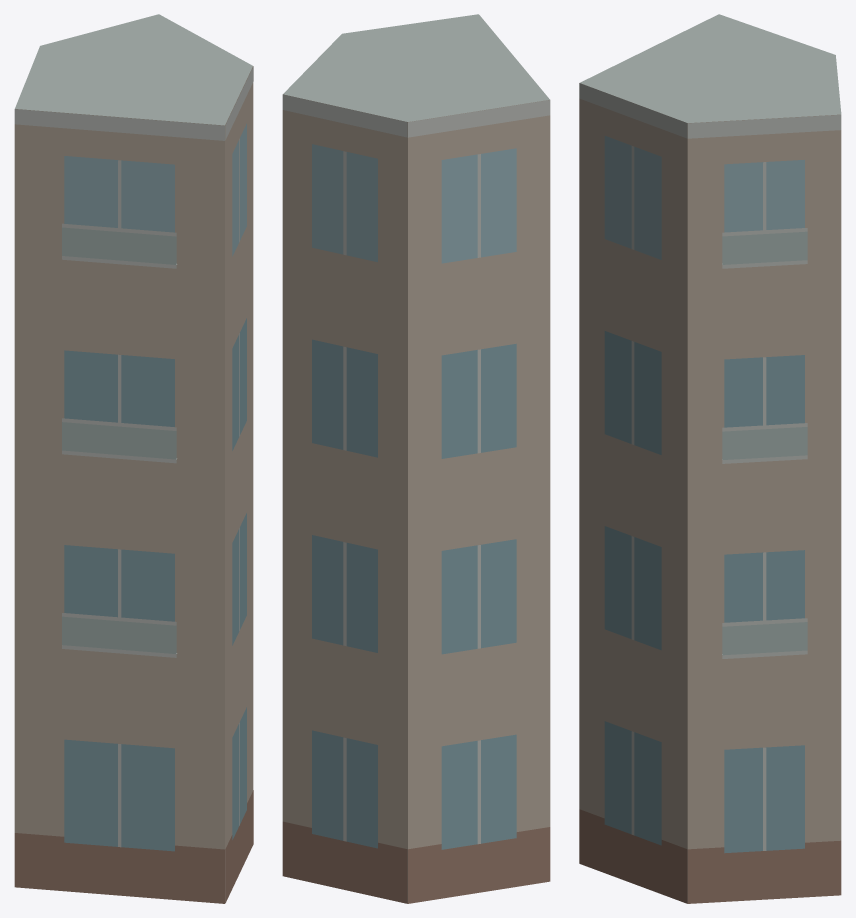
File: survey-upis-32634707.glb
3 views of the same model, side by side, from view 1: azimuth 30°, elevation 25°; view 2: azimuth 150°, elevation 25°; view 3: azimuth 270°, elevation 25° (orthographic).
Visible parts, largest first — view 1: survey-upis-32634707.tmp; view 2: survey-upis-32634707.tmp; view 3: survey-upis-32634707.tmp.
Boxes of the visible parts, left/top/right/bottom form: survey-upis-32634707.tmp: left=14, top=14, right=253, bottom=903; survey-upis-32634707.tmp: left=282, top=14, right=550, bottom=903; survey-upis-32634707.tmp: left=579, top=14, right=841, bottom=903.
Bounding box in the file's own units: 3.67 × 12.2 × 3.72.
